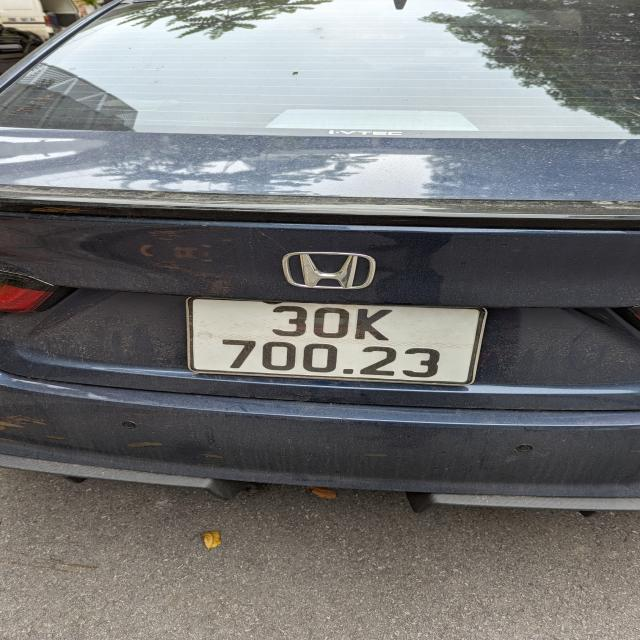License: (185, 296, 487, 386)
